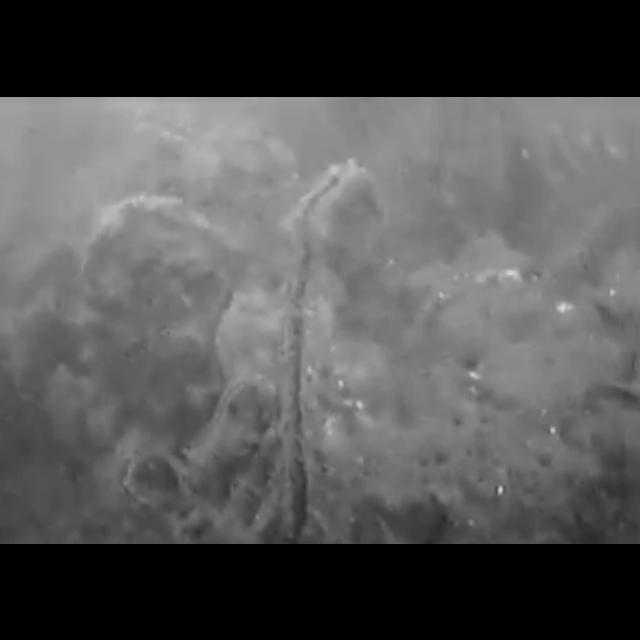Oyster-Closed: (77, 194, 241, 408)
Oyster-Open: (269, 292, 335, 544), (280, 160, 388, 302), (113, 434, 207, 512), (210, 369, 282, 458)
